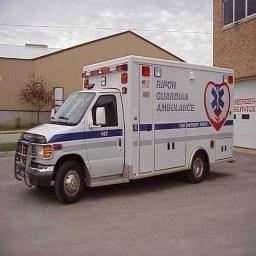Ambulance: (15, 56, 233, 202)
